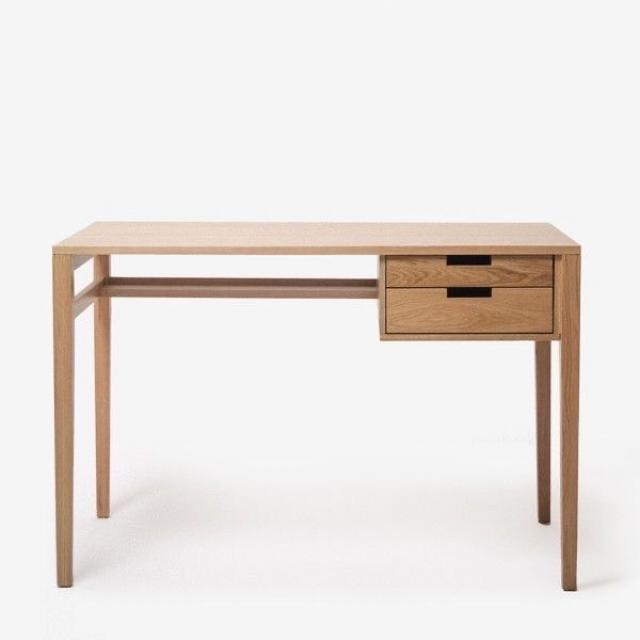table: (33, 184, 619, 623)
